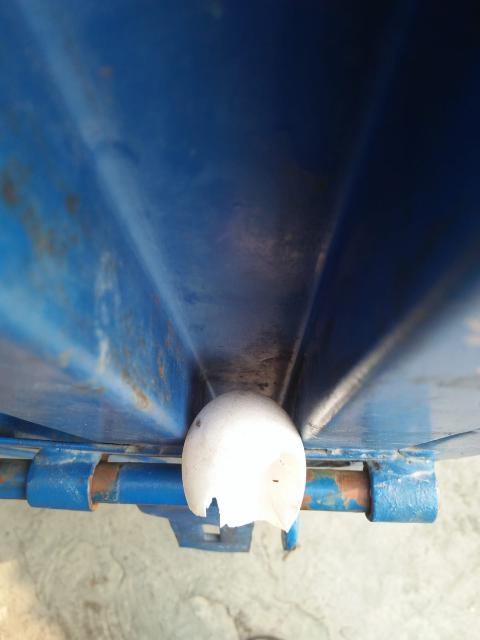Roto: (180, 388, 307, 534)
